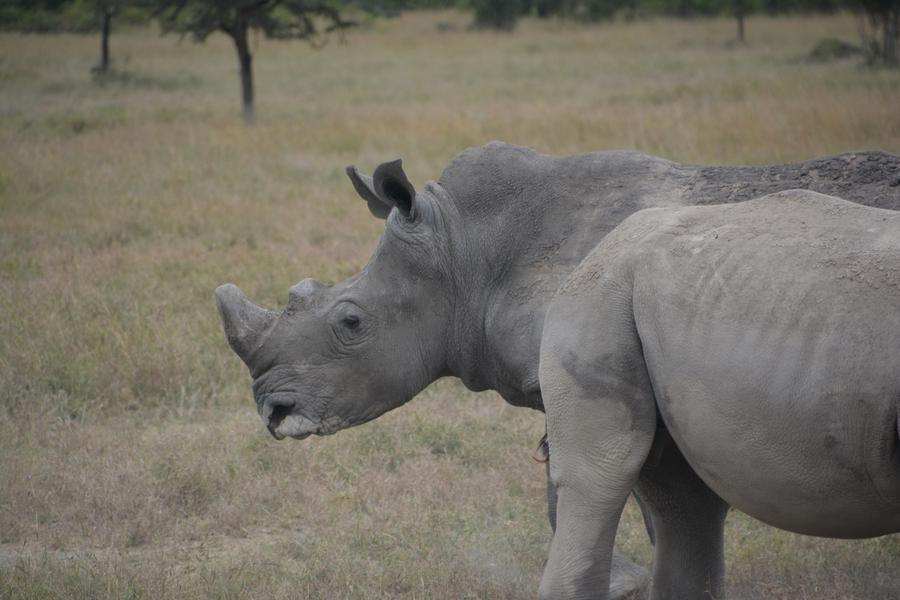rhino: (240, 158, 891, 452), (594, 210, 893, 590)
